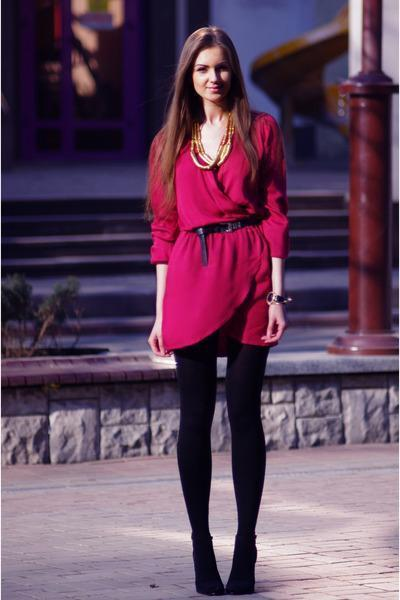dress: (148, 115, 287, 354)
pants: (164, 305, 275, 576)
shoe: (195, 570, 257, 595)
